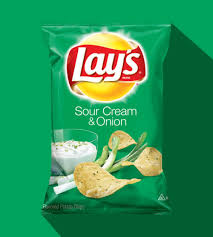lays-small: (44, 21, 172, 218)
